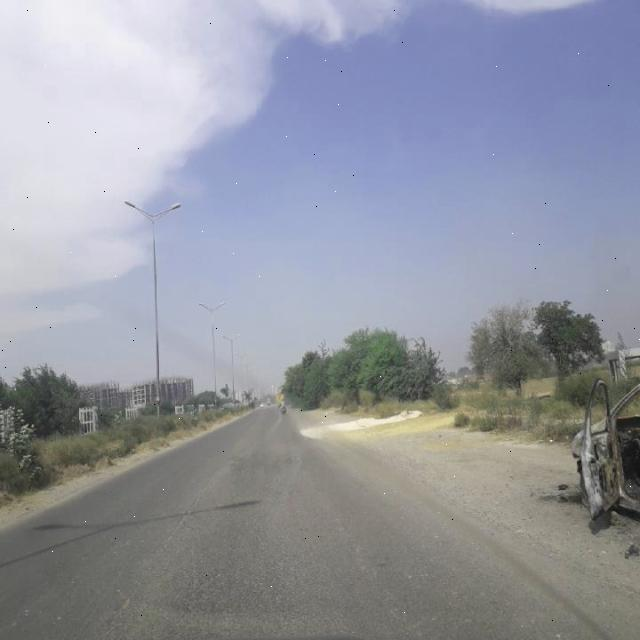D00: (114, 458, 220, 624)
